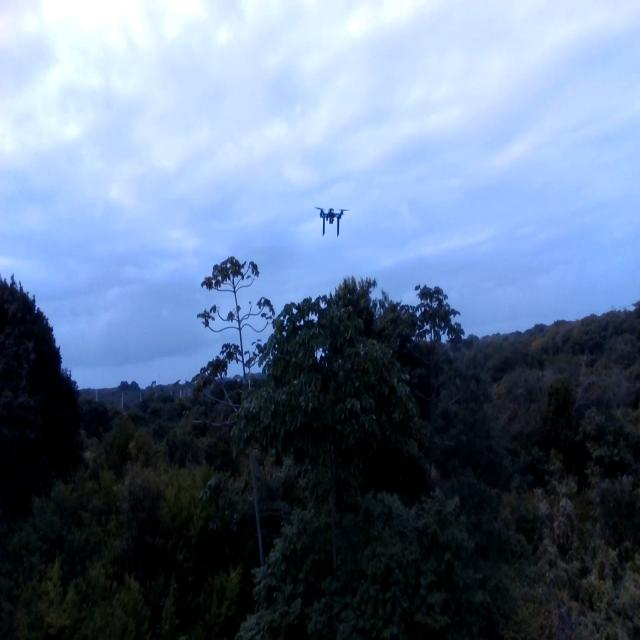-uav-: (312, 196, 353, 243)
